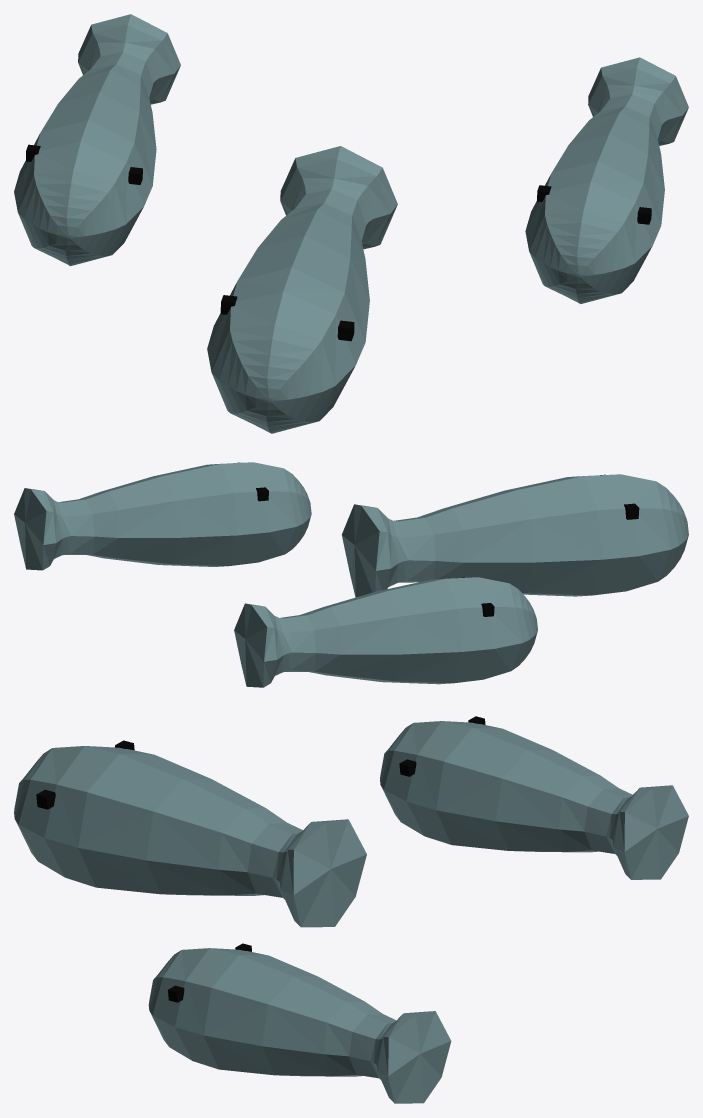
Rendered from Fish.glb.
3 renders of one model, top to bottom at view 1: azimuth 30°, elevation 25°; view 2: azimuth 150°, elevation 25°; view 3: azimuth 270°, elevation 25°, orthographic. The views are drawn at different scales.
Visible parts, largest first — view 1: Cube, Cube.005, Cube.006; view 2: Cube, Cube.005, Cube.006; view 3: Cube, Cube.005, Cube.006.
Part boxes in pixels (box(x1,y1,x2,y2)): Cube: box(207, 146, 397, 433); Cube.005: box(14, 14, 180, 266); Cube.006: box(525, 57, 688, 303); Cube: box(342, 474, 688, 597); Cube.005: box(234, 577, 537, 687); Cube.006: box(14, 462, 311, 570); Cube: box(14, 746, 366, 927); Cube.005: box(380, 721, 688, 879); Cube.006: box(148, 948, 451, 1103).
Size of the model in its own units: 0.8985 by 0.2308 by 0.8562.
